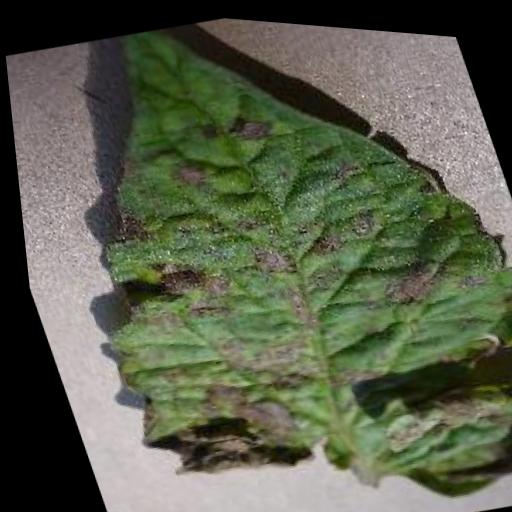Early Blight: (5, 0, 512, 512)
